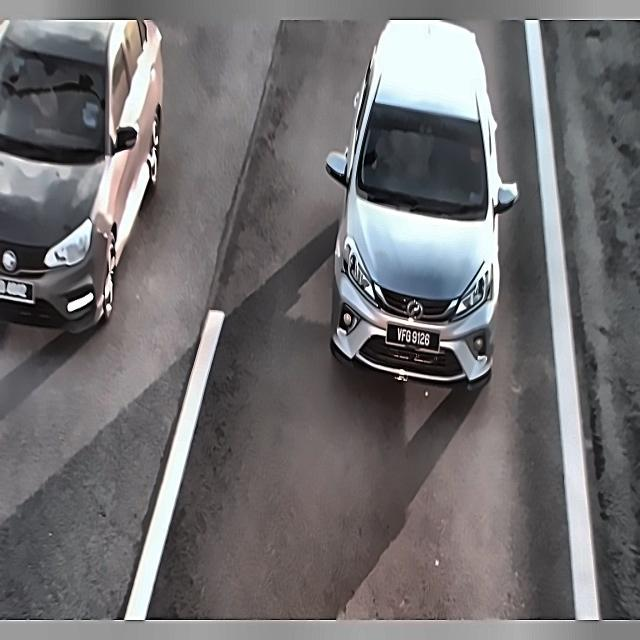car: (385, 317, 444, 358), (0, 267, 44, 316)
